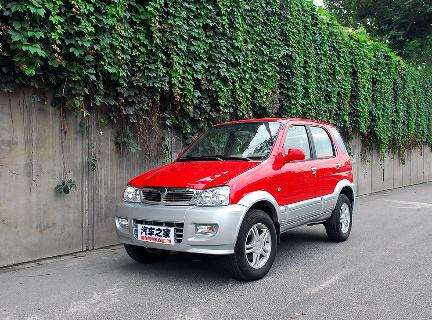众泰-2008: (112, 110, 362, 280)
